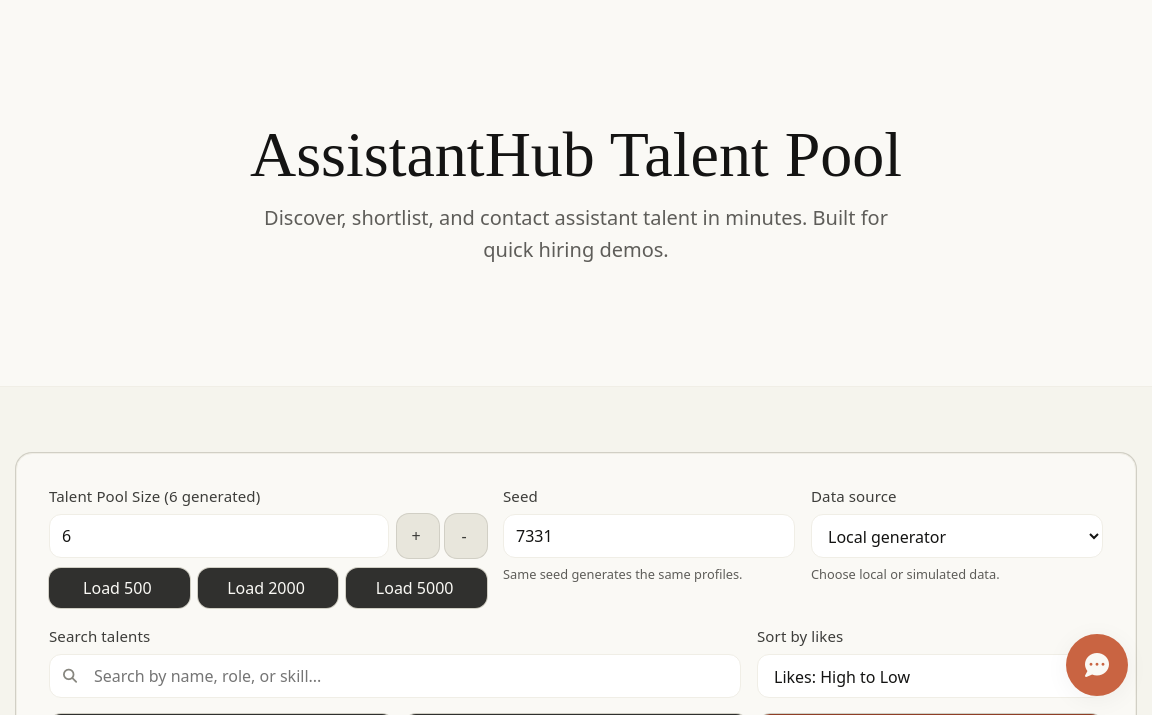
Scenario: App integration › pool presets remain grouped and selecting one changes the generated talent count
Click the button "Load 500".
click(119, 588)  # box 49,568 -> 190,608
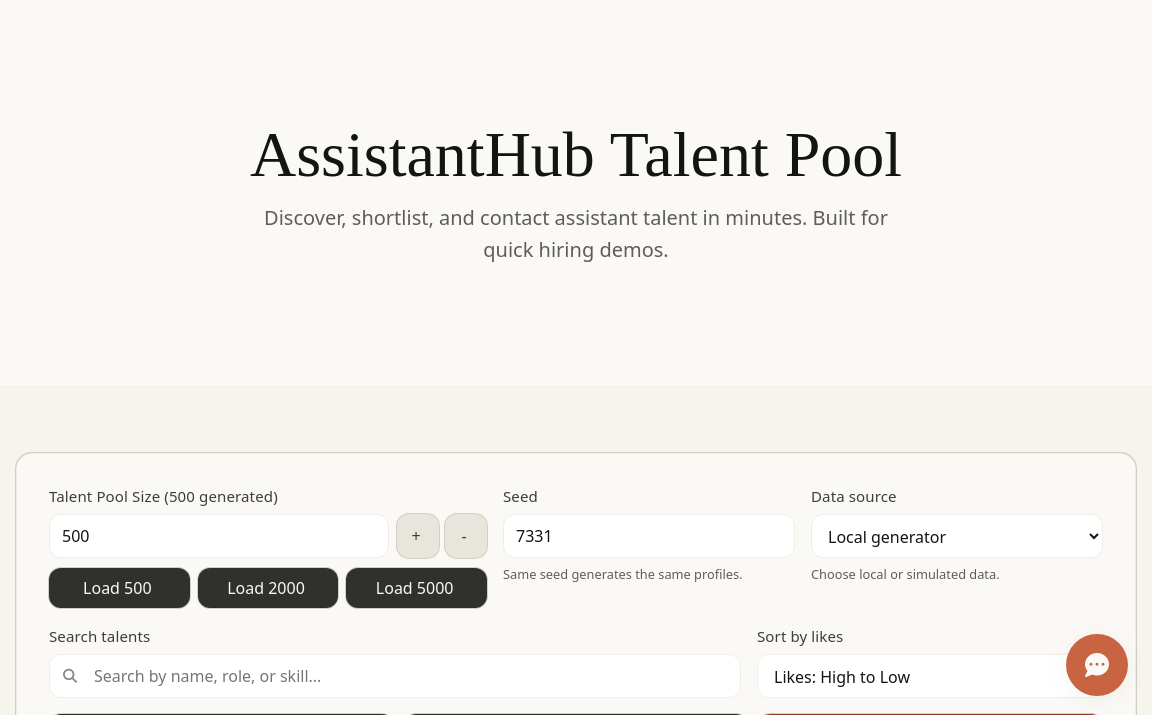
Check: the number field named "Deterministic seed" holds "7331", box 503,514 -> 795,558
Check: the text "Talent Pool Size (500 generated)" is shown, box 49,486 -> 278,506
